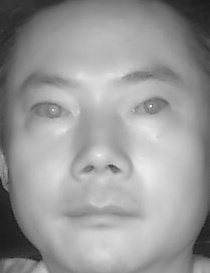eye: (30, 97, 74, 125), (129, 94, 172, 120)
mouth: (60, 194, 143, 235)
